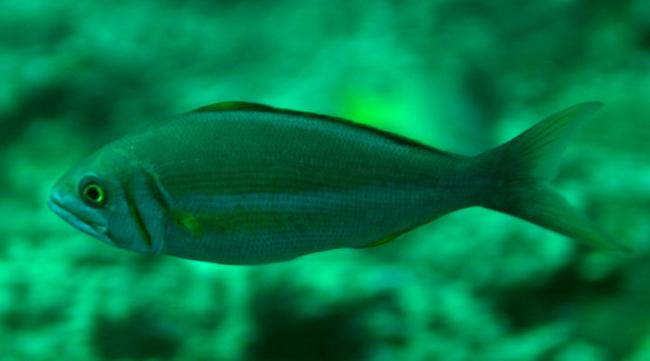fish: (51, 99, 633, 266)
